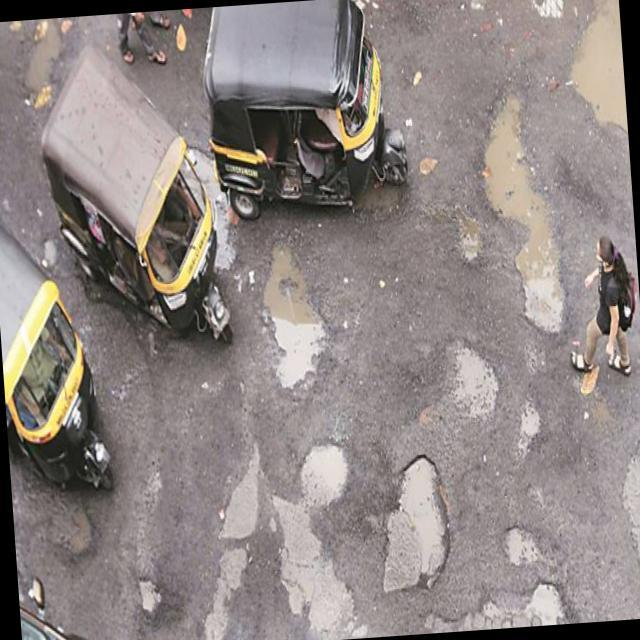Pothole: (479, 78, 583, 348), (253, 435, 372, 640), (245, 222, 337, 371), (370, 443, 453, 598), (554, 0, 628, 139), (418, 578, 590, 634), (607, 401, 640, 619), (442, 308, 497, 422), (217, 454, 274, 554), (502, 522, 546, 576), (454, 196, 484, 262), (514, 396, 544, 451), (135, 568, 167, 614), (416, 145, 438, 193)
